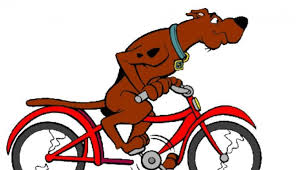scooby: (97, 8, 249, 154)
